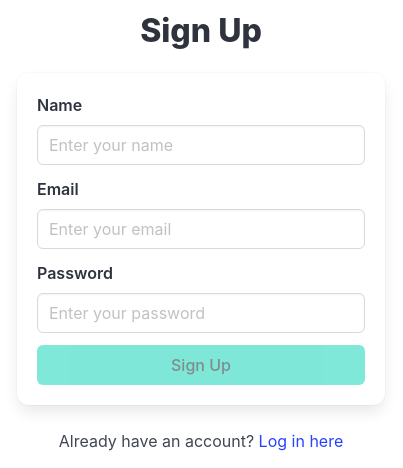
Test: SignupPage Component › enables the signup button when all inputs are filled
In the field labelled "Name": [201, 145] box [37,125,365,165], type "John Doe"
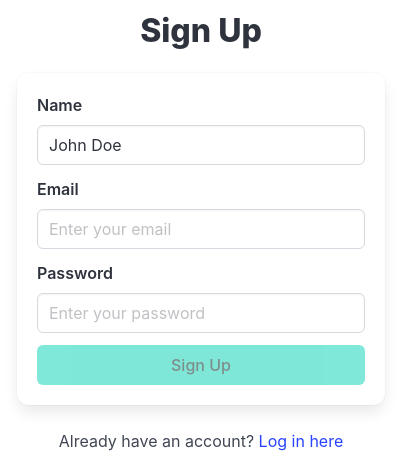
In the field labelled "Email": [201, 229] box [37,209,365,249], type "john@example.com"
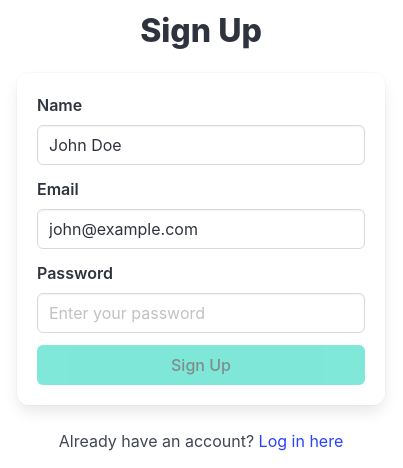
In the password field labelled "Password": [201, 313] box [37,293,365,333], type "password123"
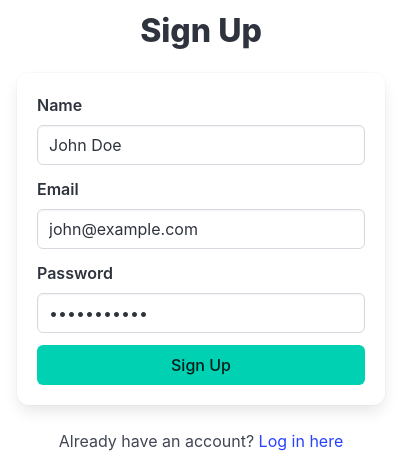
Check: the button "Sign Up" is enabled, box [37,345,365,385]
